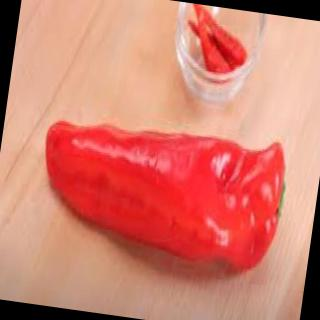Cabai Merah: (32, 113, 320, 276), (182, 4, 255, 78)
